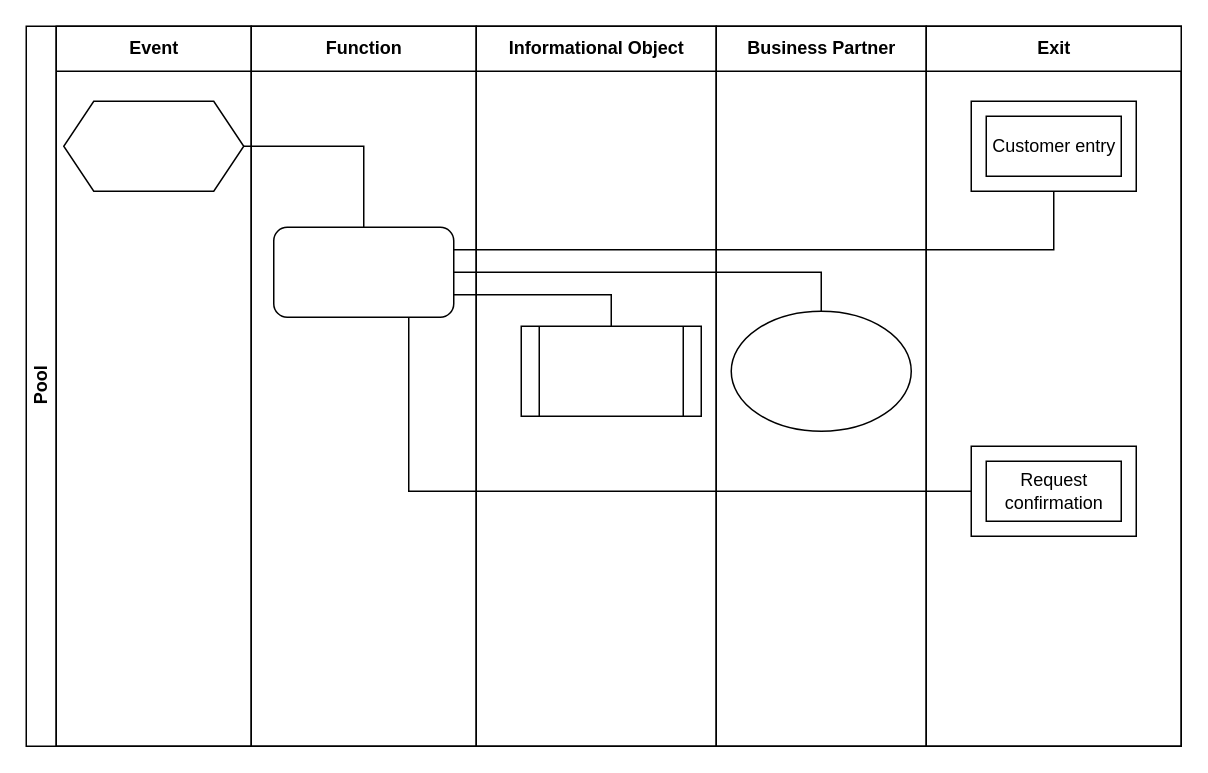
This 1208x773 diagram has some shape labels left out. The shapes that lost their labels are listed below. From the top down, each one's centre as x and y in pixels, then its label:
At point 153,145: "Customer request received".
At point 363,271: "Request processing".
At point 610,370: "Request record".
At point 820,370: "Sales team".
